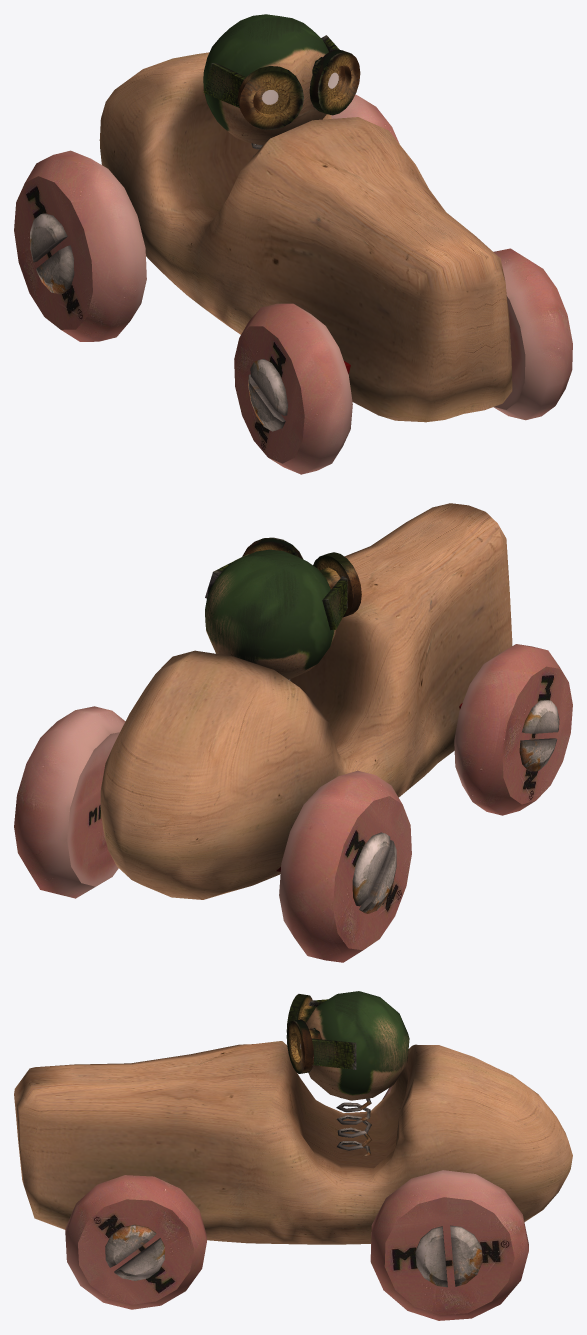
3 renders of one model, top to bottom at view 1: azimuth 30°, elevation 25°; view 2: azimuth 150°, elevation 25°; view 3: azimuth 270°, elevation 25°, orthographic. The views are drawn at different scales.
Parts seen in each view (by area): view 1: Mesh_coche_protagonista_Mesh; view 2: Mesh_coche_protagonista_Mesh; view 3: Mesh_coche_protagonista_Mesh.
Boxes of the visible parts, left/top/right/bottom form: Mesh_coche_protagonista_Mesh: left=14, top=14, right=572, bottom=474; Mesh_coche_protagonista_Mesh: left=14, top=503, right=572, bottom=962; Mesh_coche_protagonista_Mesh: left=14, top=991, right=572, bottom=1320.
Size of the model in its own units: 2.51 by 4.39 by 2.32.
Materials: 1 (1 with a texture image).
